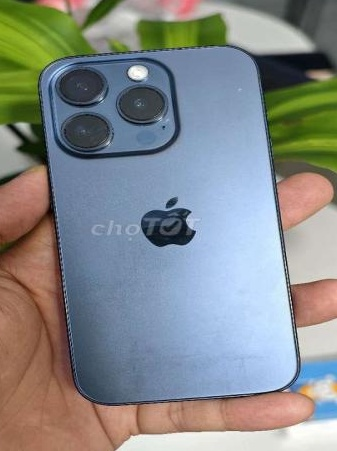scratch: (49, 67, 172, 153), (212, 76, 256, 95)
